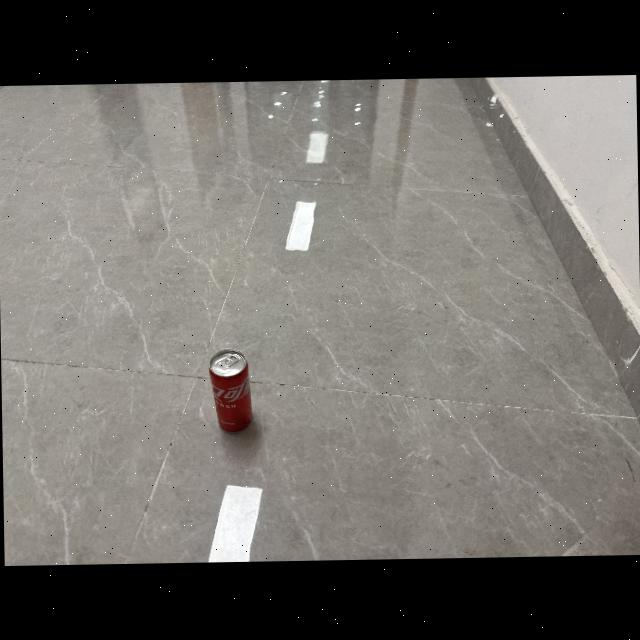Cola: (207, 344, 260, 441)
